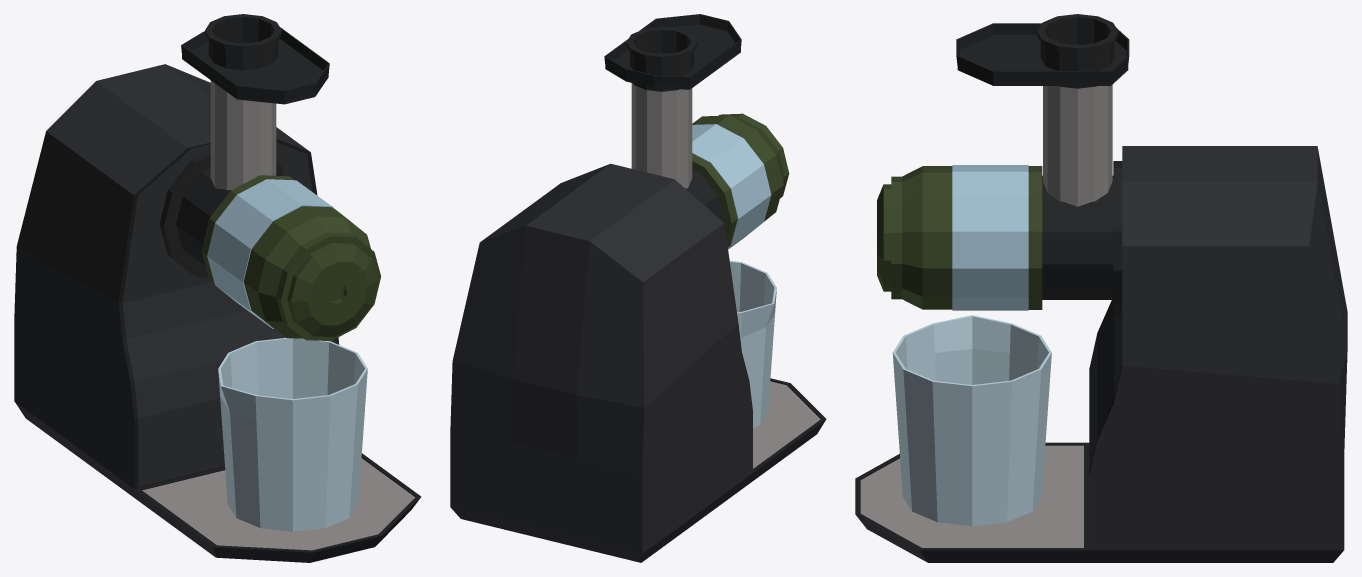
Rendered from juicer_01_E.gltf.
3 views of the same model, side by side, from view 1: azimuth 30°, elevation 25°; view 2: azimuth 150°, elevation 25°; view 3: azimuth 270°, elevation 25° (orthographic). The views are drawn at different scales.
Visible parts, largest first — view 1: juicer_01_E, Glassforjuicer_01_E; view 2: juicer_01_E, Glassforjuicer_01_E; view 3: juicer_01_E, Glassforjuicer_01_E.
Part boxes in pixels (x1,y1,x2,y2): juicer_01_E: [14, 14, 421, 562]; Glassforjuicer_01_E: [218, 338, 367, 531]; juicer_01_E: [450, 14, 826, 562]; Glassforjuicer_01_E: [729, 261, 776, 428]; juicer_01_E: [855, 14, 1347, 562]; Glassforjuicer_01_E: [892, 315, 1051, 526].
Bounding box in the file's own units: 0.228 × 0.4748 × 0.4404.
Materials: 1 (1 with a texture image).
